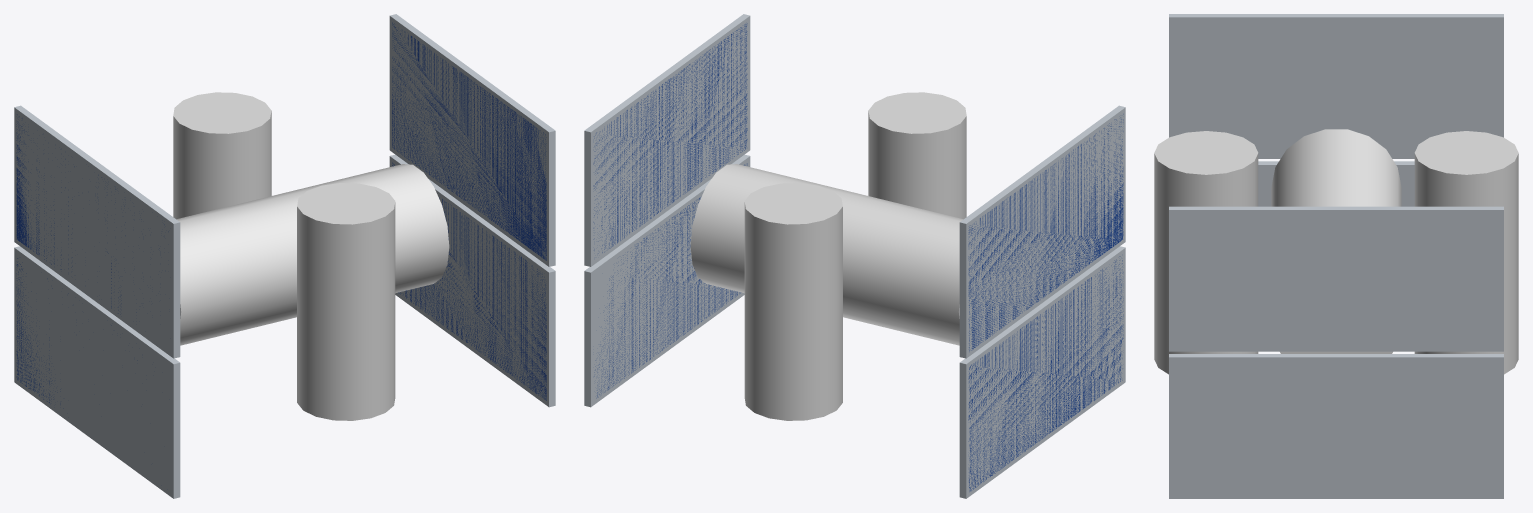
Rendered from tiangong.glb.
3 renders of one model, left to right at view 1: azimuth 30°, elevation 25°; view 2: azimuth 150°, elevation 25°; view 3: azimuth 270°, elevation 25°, orthographic. The views are drawn at different scales.
Visible parts, largest first — view 1: panel (×4), tiangong; view 2: panel (×4), tiangong; view 3: panel (×4), tiangong.
Boxes of the visible parts, left/top/right/bottom form: panel (×4): left=14, top=14, right=555, bottom=498; tiangong: left=173, top=92, right=449, bottom=420; panel (×4): left=584, top=14, right=1125, bottom=498; tiangong: left=690, top=92, right=966, bottom=420; panel (×4): left=1169, top=14, right=1503, bottom=498; tiangong: left=1154, top=129, right=1518, bottom=374.
Size of the model in its own units: 2.85 by 1.96 by 2.24.
